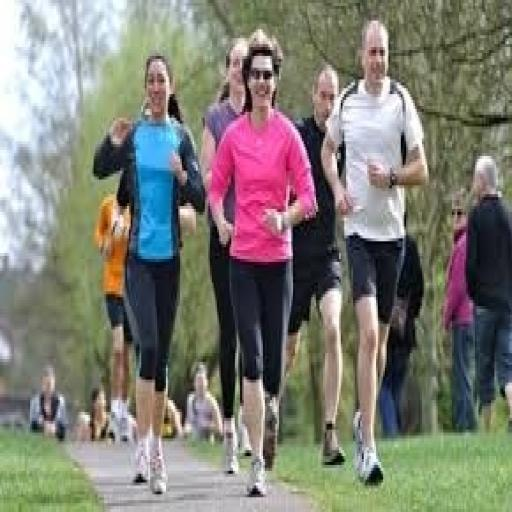running: (204, 30, 320, 500), (90, 50, 207, 497), (320, 15, 430, 488)
